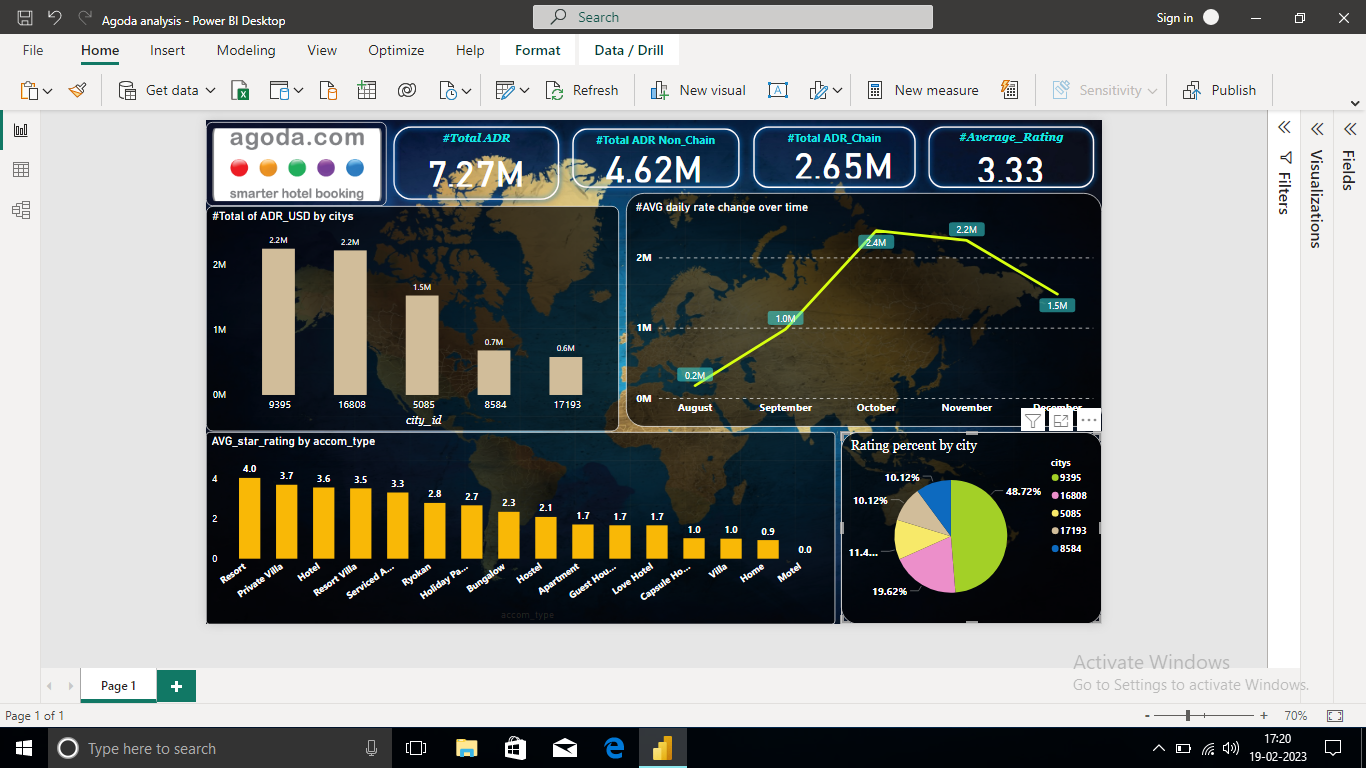

The page's visual inventory and layout, read from the dashboard file:
{"tool":"powerbi","page":{"name":"Page 1","canvas":[1280,720],"ordinal":0},"visuals":[{"type":"group","id":"g1","title":"Group 1","box":[258,0,256.5,123.3],"z":0},{"type":"shape","box":[258,0,255.2,123.1],"z":0,"group":"g1"},{"type":"shape","box":[772.4,0,250.3,106.2],"z":0,"group":"g2"},{"type":"shape","box":[1023.3,0,255.1,106.3],"z":0,"group":"g3"},{"type":"shape","box":[514.5,2.8,256.5,103.5],"z":0,"group":"g6"},{"type":"group","id":"g2","title":"Group 1","box":[772.4,0,250.9,106.3],"z":1000},{"type":"card","fields":{"Values":["Calculation Table.Revenue_by_chain"]},"box":[813.7,31.8,192.2,57.5],"z":1000,"group":"g2"},{"type":"card","fields":{"Values":["Calculation Table.Revenue_by_non-chain"]},"box":[541.9,33.6,196.4,60.2],"z":1000,"group":"g6"},{"type":"card","fields":{"Values":["Calculation Table.Average_star_rating"]},"box":[1052.2,35,195.9,57.5],"z":1000,"group":"g3"},{"type":"card","fields":{"Values":["Calculation Table.Total revenue"]},"box":[286.9,42,196,59.4],"z":1000,"group":"g1"},{"type":"lineChart","title":"#AVG daily rate change over time ","fields":{"Category":["agoda.booking_date.Variation.Date Hierarchy.Month"],"Y":["Sum(agoda.ADR_USD)"]},"box":[599.5,104.9,680.3,334.5],"z":1000,"group":"g5"},{"type":"group","id":"g3","title":"Group 1","box":[1023.3,0,255.1,106.3],"z":2000},{"type":"group","id":"g4","title":"Group 1","box":[514.5,2.8,258,103.5],"z":3000},{"type":"group","id":"g5","title":"Group 2","box":[599.5,104.9,680.3,334.5],"z":4000},{"type":"image","box":[0,2.8,258,120.5],"z":5000},{"type":"group","id":"g6","title":"Group 3","box":[514.5,2.8,258,103.5],"z":5001,"group":"g4"},{"type":"clusteredColumnChart","title":"#Total of ADR_USD by citys","fields":{"Category":["agoda.city_id"],"Y":["Sum(agoda.ADR_USD)"]},"box":[0,123.3,589.6,321.7],"z":6000},{"type":"pieChart","title":"Rating percent by city","fields":{"Category":["agoda.city_id"],"Y":["Sum(agoda.star_rating)"]},"box":[907.1,445,372.8,275],"z":7000},{"type":"clusteredColumnChart","title":"AVG_star_rating by accom_type","fields":{"Y":["Avg(agoda.star_rating)"],"Category":["agoda.accom_type"]},"box":[0,445,898.6,275],"z":8000}]}

Visuals, with their boxes on the page's 1280x720 design canvas (x1, y1, x2, y2). These are canvas units, not pixel positions in the 1366x768 screenshot, which may show the page scaled, cropped or inside an application window:
"Group 1" group: [258, 0, 514, 123]
shape: [258, 0, 513, 123]
shape: [772, 0, 1023, 106]
shape: [1023, 0, 1278, 106]
shape: [514, 3, 771, 106]
"Group 1" group: [772, 0, 1023, 106]
card - Calculation Table.Revenue_by_chain: [814, 32, 1006, 89]
card - Calculation Table.Revenue_by_non-chain: [542, 34, 738, 94]
card - Calculation Table.Average_star_rating: [1052, 35, 1248, 92]
card - Calculation Table.Total revenue: [287, 42, 483, 101]
"#AVG daily rate change over time " lineChart: [600, 105, 1280, 439]
"Group 1" group: [1023, 0, 1278, 106]
"Group 1" group: [514, 3, 772, 106]
"Group 2" group: [600, 105, 1280, 439]
image: [0, 3, 258, 123]
"Group 3" group: [514, 3, 772, 106]
"#Total of ADR_USD by citys" clusteredColumnChart: [0, 123, 590, 445]
"Rating percent by city" pieChart: [907, 445, 1280, 720]
"AVG_star_rating by accom_type" clusteredColumnChart: [0, 445, 899, 720]
